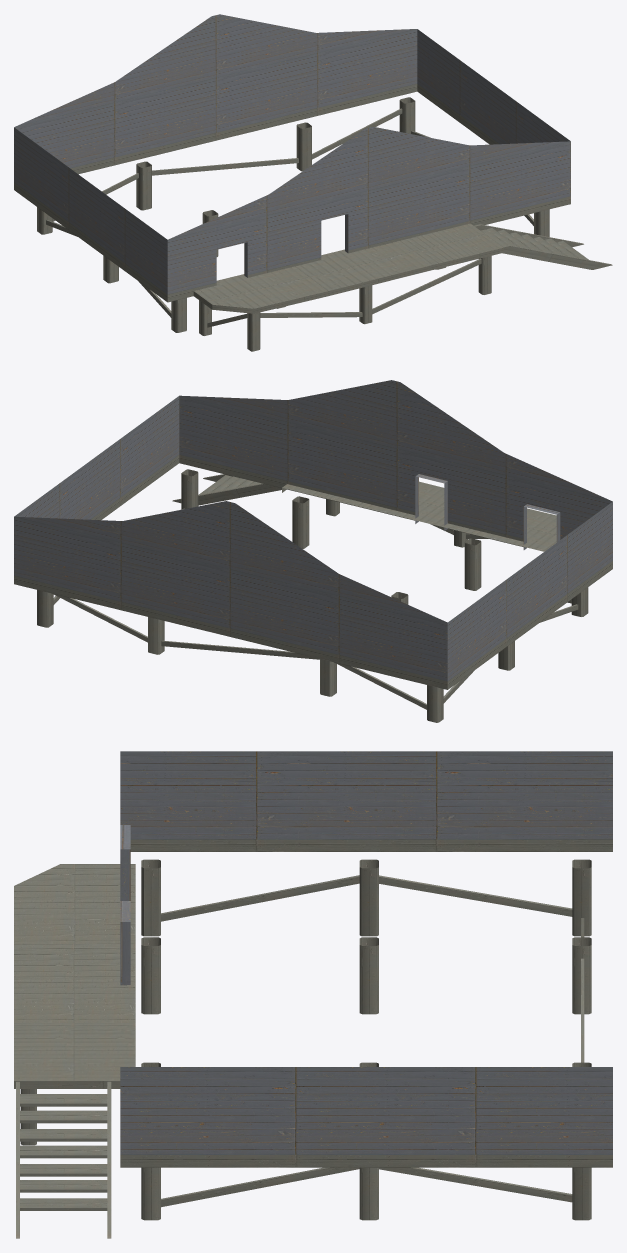
File: rural_woodenbuilding_1_rural_walltrim_1_0.glb
3 renders of one model, top to bottom at view 1: azimuth 30°, elevation 25°; view 2: azimuth 150°, elevation 25°; view 3: azimuth 270°, elevation 25°, orthographic. The views are drawn at different scales.
Parts seen in each view (by area): view 1: Rural_WoodenBuilding_1_Rural_Walltrim_1_0; view 2: Rural_WoodenBuilding_1_Rural_Walltrim_1_0; view 3: Rural_WoodenBuilding_1_Rural_Walltrim_1_0.
Part boxes in pixels (x1,y1,x2,y2): Rural_WoodenBuilding_1_Rural_Walltrim_1_0: [14, 14, 612, 351]; Rural_WoodenBuilding_1_Rural_Walltrim_1_0: [14, 380, 612, 722]; Rural_WoodenBuilding_1_Rural_Walltrim_1_0: [14, 751, 612, 1238].
Size of the model in its own units: 15.26 by 5.83 by 11.96.
1 material, 1 textured.
